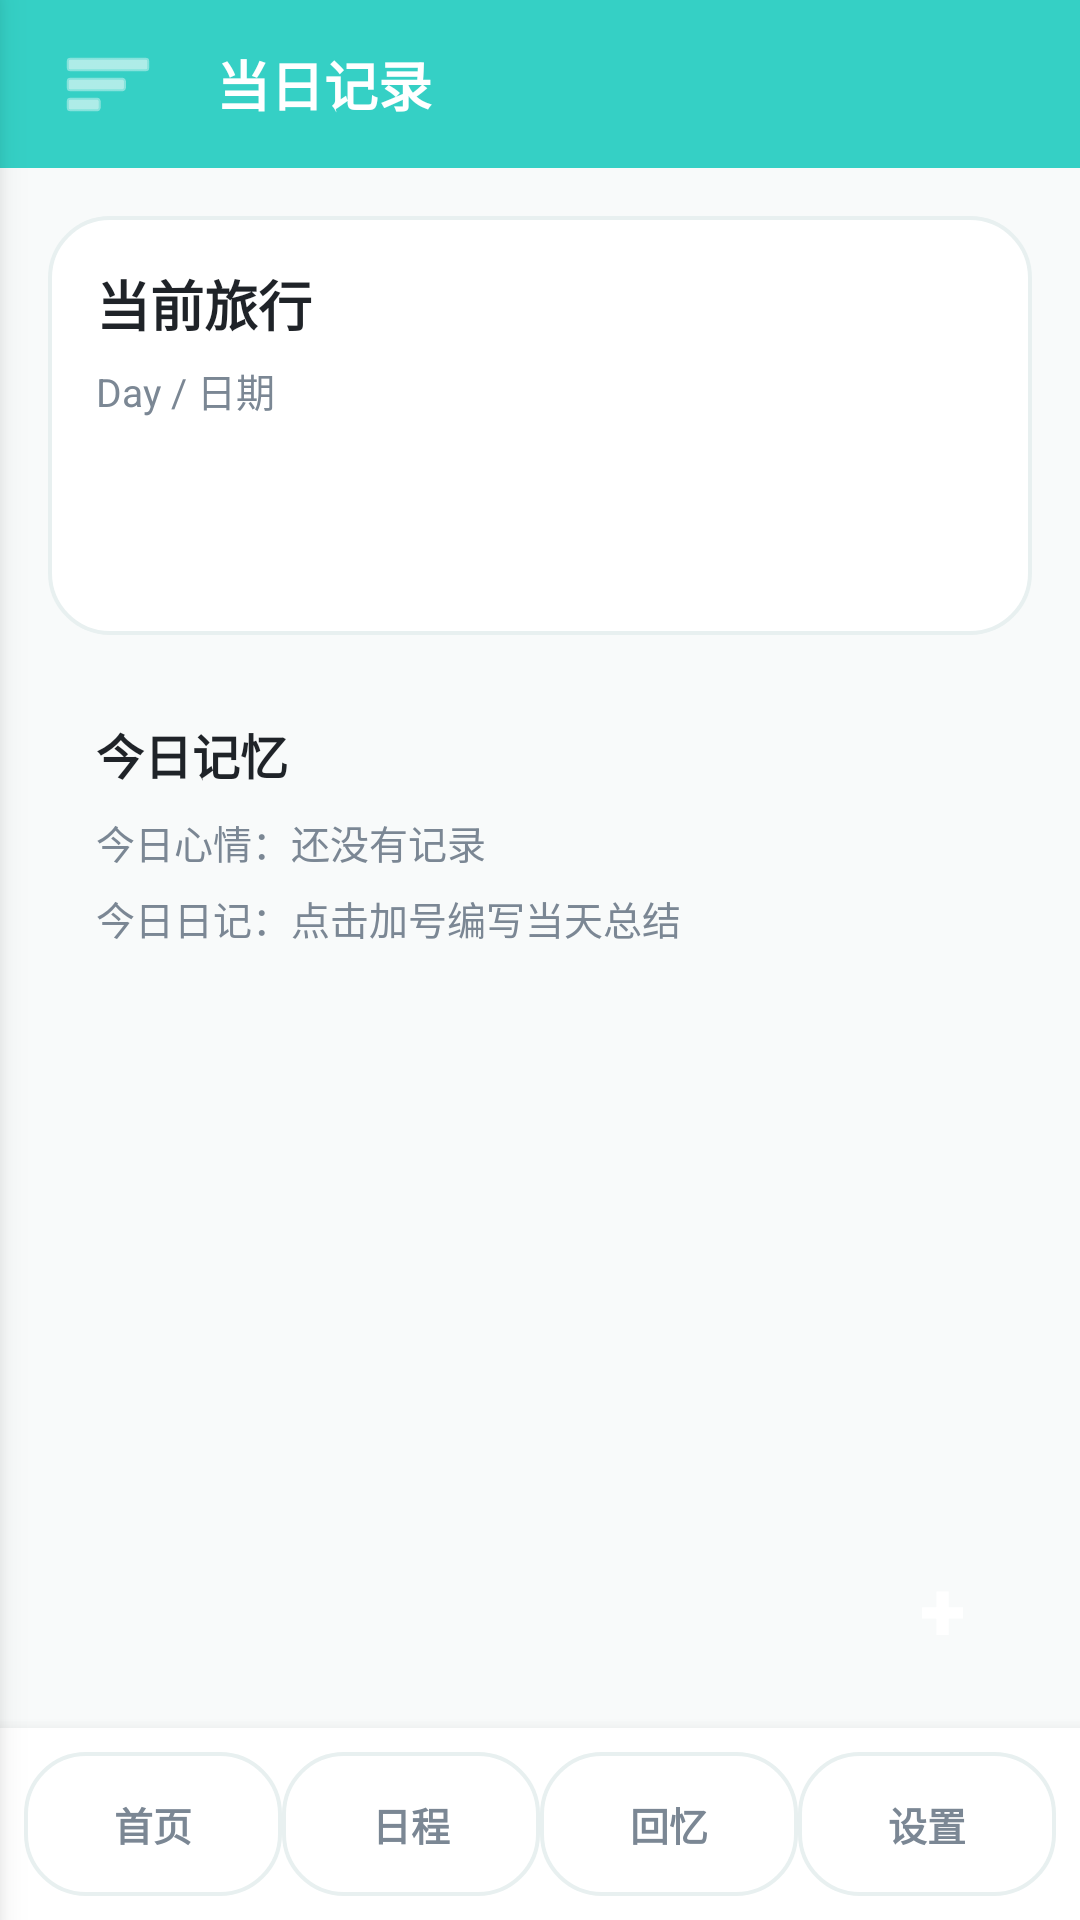

Icon bounding boxes for this 1080w x 1920h phone screenshot, format (x1, y1, x2, y2):
打开菜单: (67, 58, 149, 111)
